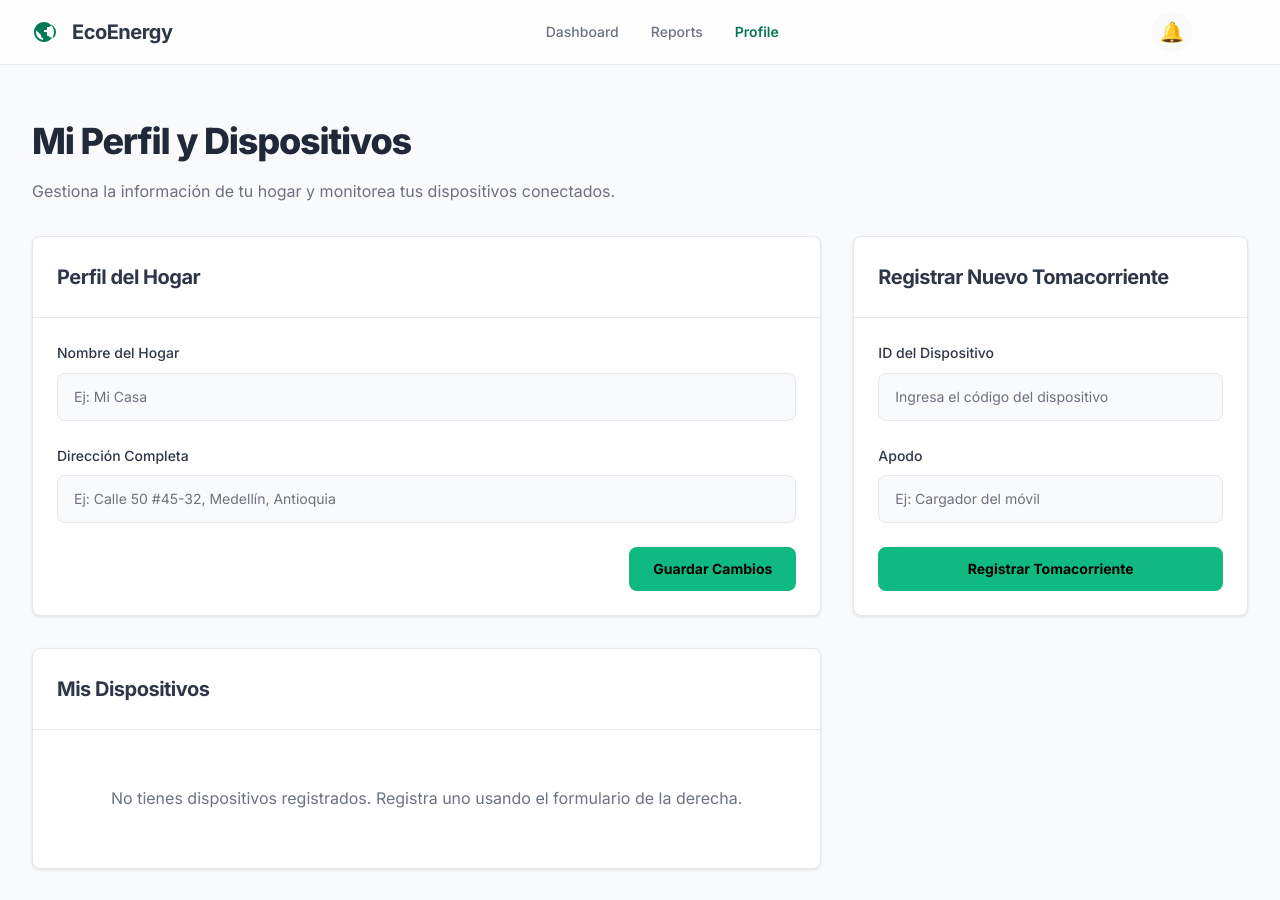
it: Registrar tomacorriente - handleDeviceRegister › muestra error cuando el backend responde fallo
Expected: the heading "Registrar Nuevo Tomacorriente" is shown, [878, 265, 1169, 289]
Step 1. Type "XYZ" into the field with placeholder "Ingresa el código del dispositivo" → (1051, 397), box [878, 373, 1223, 421]
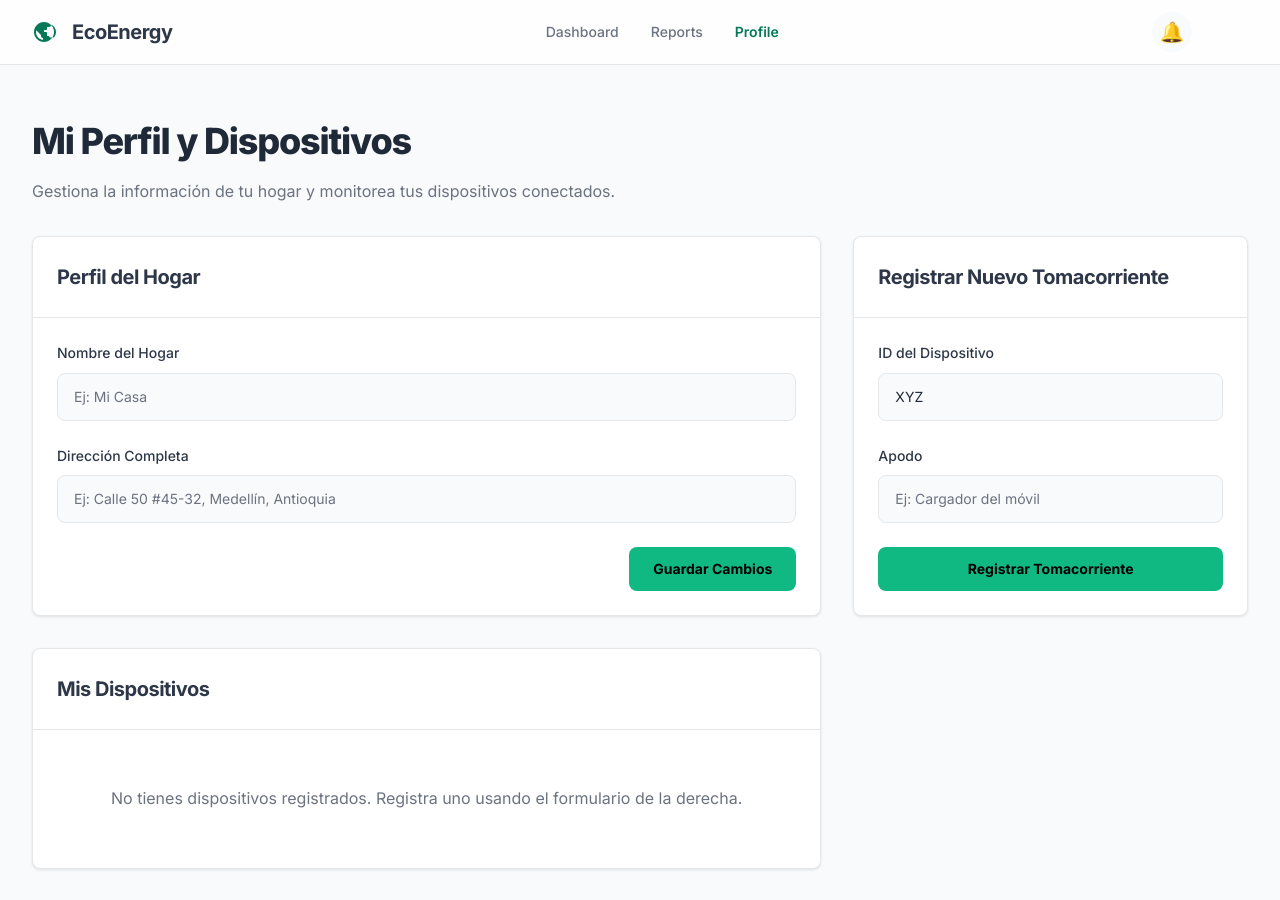
Step 2. Type "Sala" into the field with placeholder "Ej: Cargador del móvil" → (1051, 499), box [878, 475, 1223, 523]
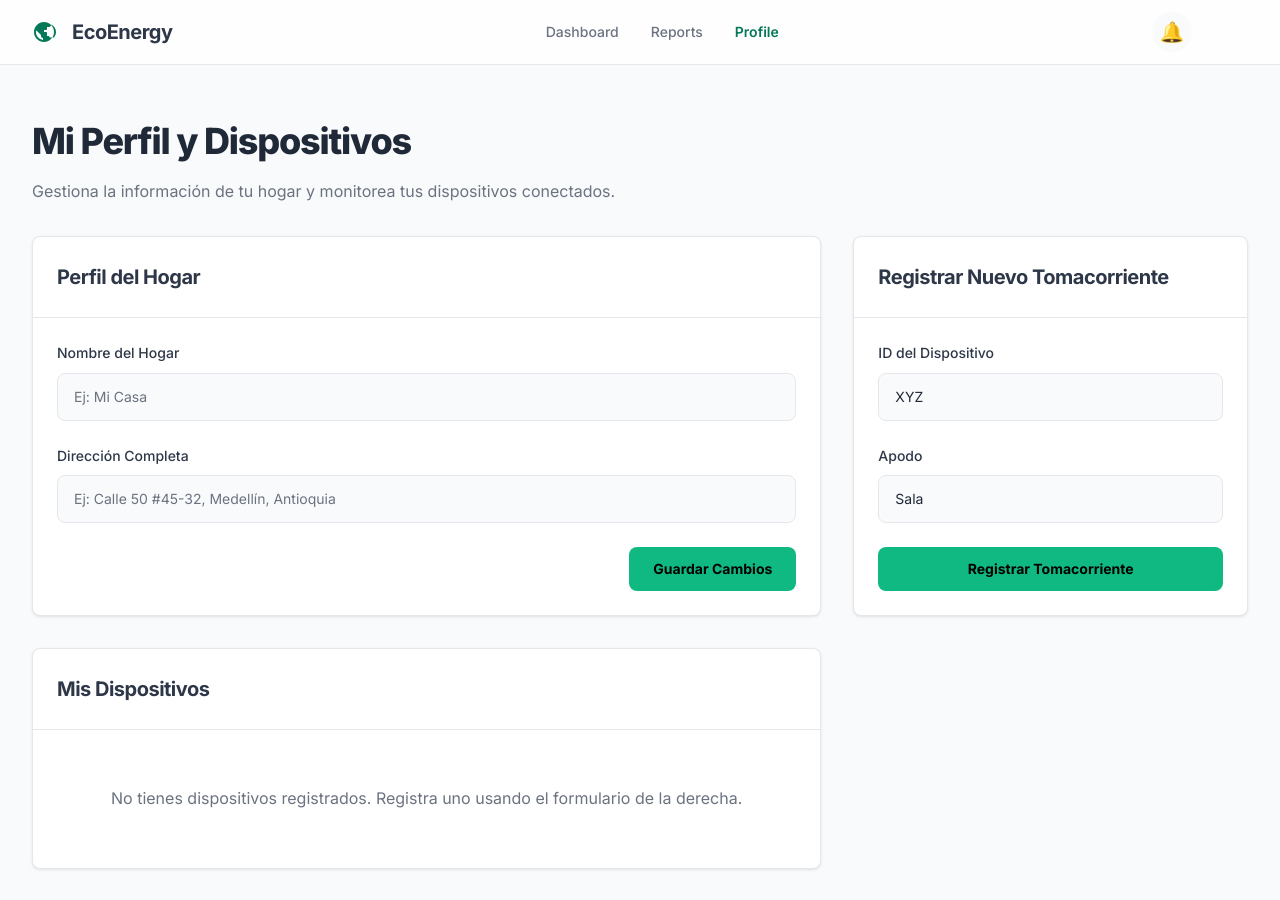
Step 3. Submit the text "ID del Dispositivo Apodo Registrar Tomacorriente", box [878, 342, 1223, 591]
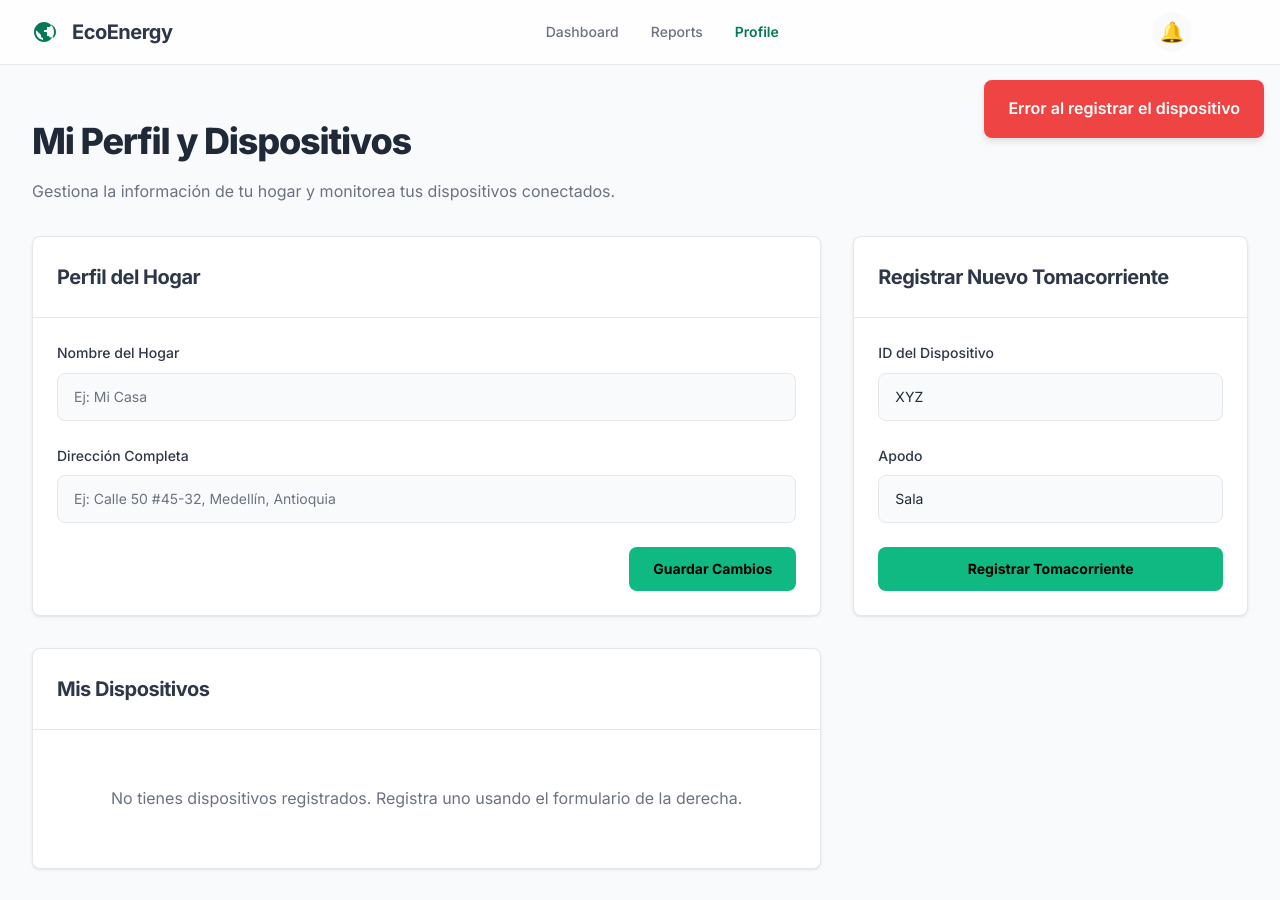
Expected: the text "Error al registrar el dispositivo" is shown, [984, 80, 1264, 138]
